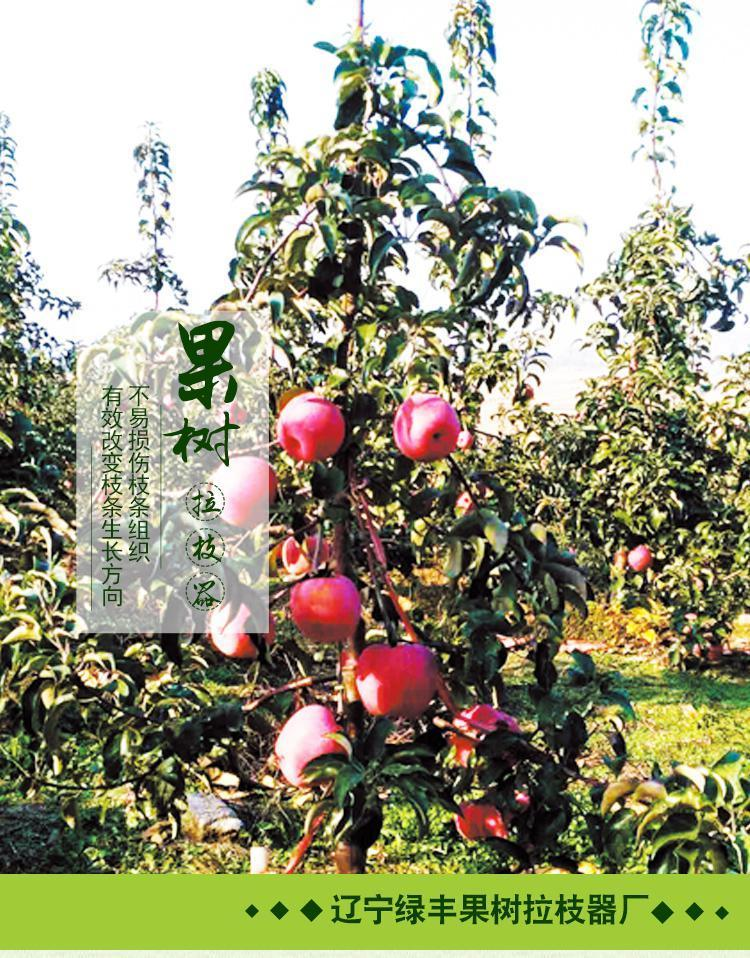apple: (274, 704, 360, 790), (352, 638, 443, 715), (273, 394, 345, 467), (390, 395, 466, 464), (289, 574, 361, 642)
